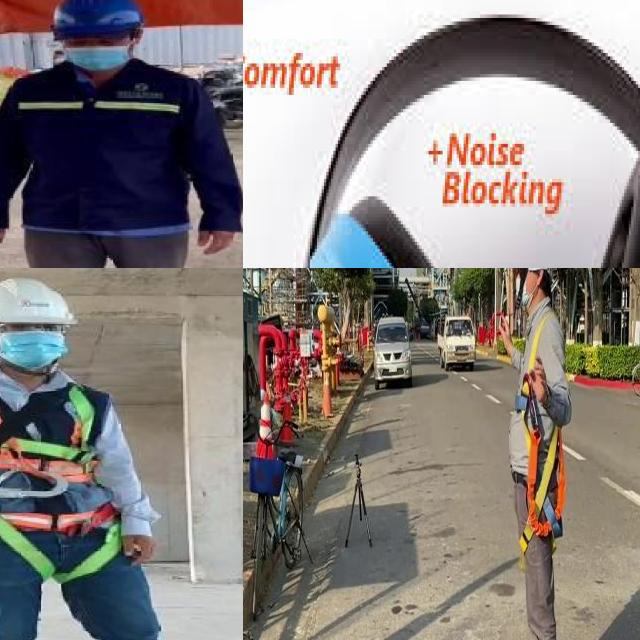Ear-protection: (303, 185, 528, 268)
Harness: (523, 384, 567, 552)
face_mask: (0, 316, 68, 367), (58, 33, 131, 70)
hand_noglove: (111, 521, 160, 573), (189, 217, 243, 260), (0, 210, 18, 257)
head_helmet: (0, 275, 81, 329), (49, 0, 146, 36)
person: (0, 268, 219, 640), (0, 0, 243, 268)
vest: (0, 365, 130, 536)
